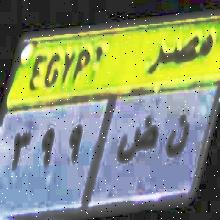3: (9, 126, 30, 175)
9: (66, 119, 82, 169), (40, 123, 56, 172)
daad: (116, 109, 160, 181)
noon: (165, 110, 189, 164)
